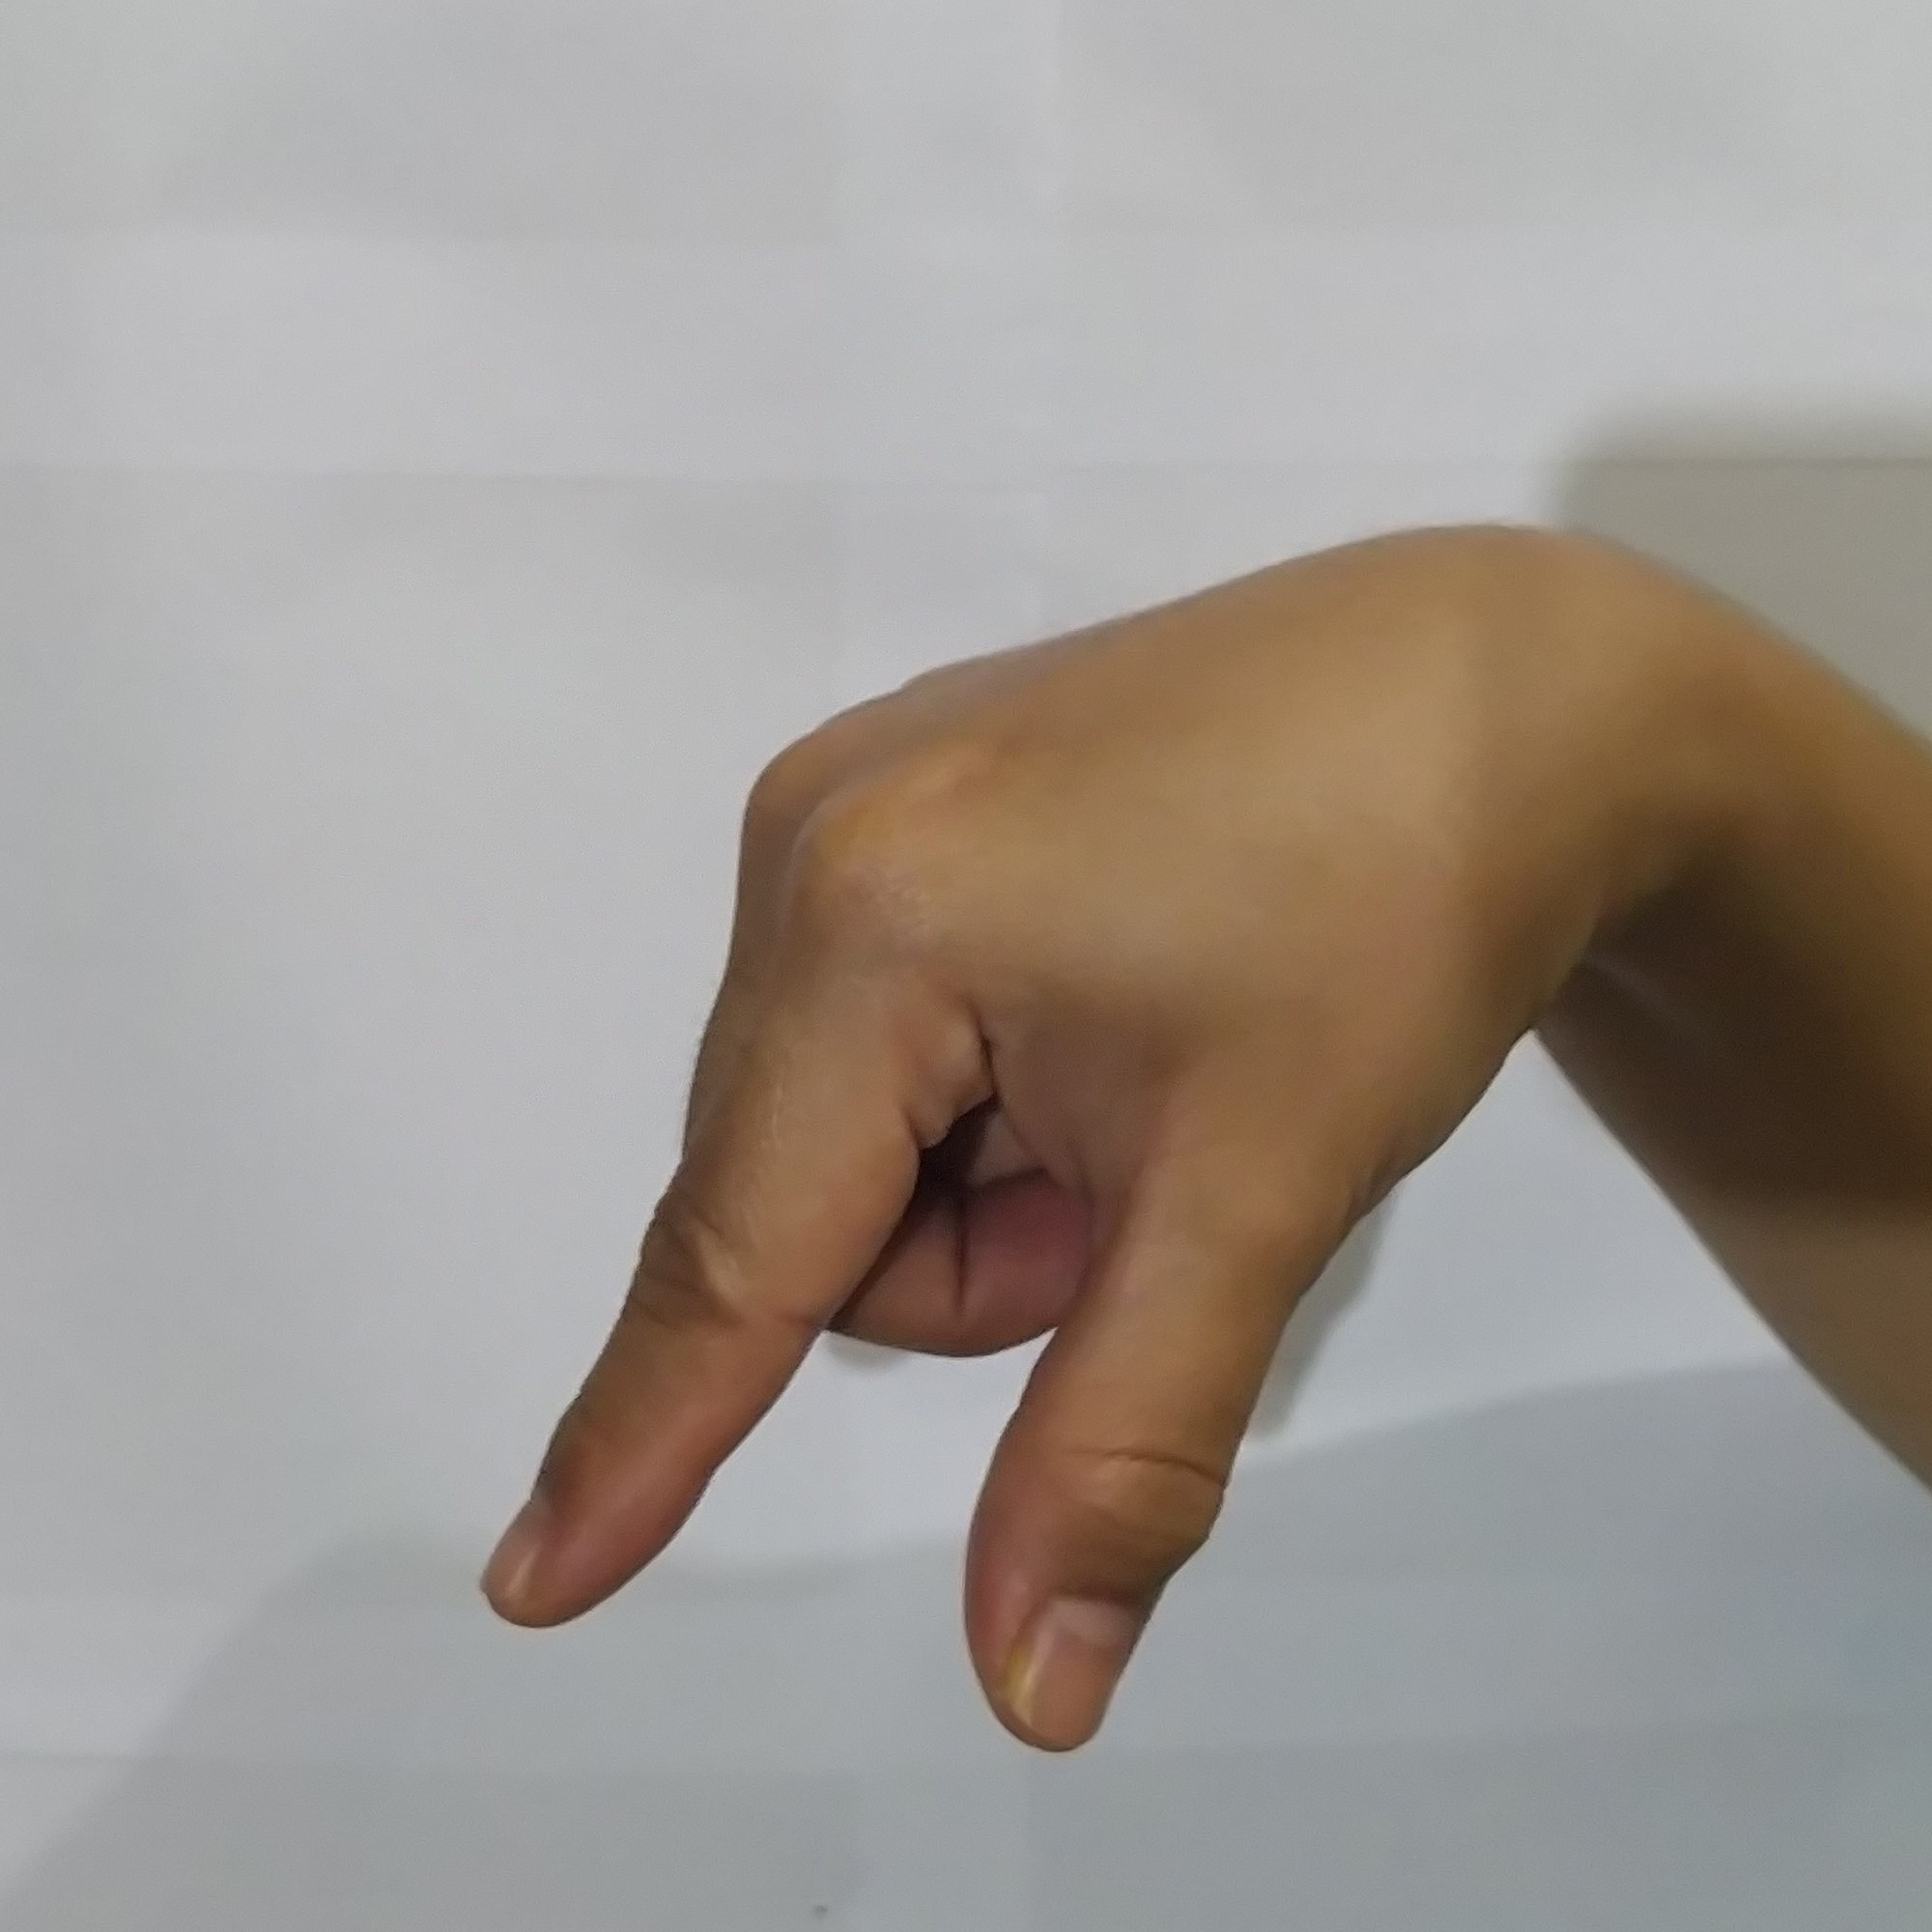Q: (458, 580, 1564, 1782)
